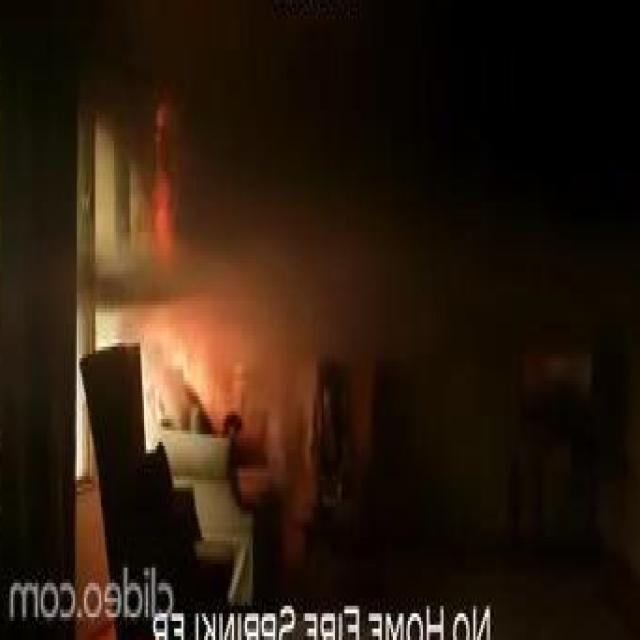smoke: (154, 319, 214, 412), (148, 168, 176, 262), (154, 92, 172, 130)
